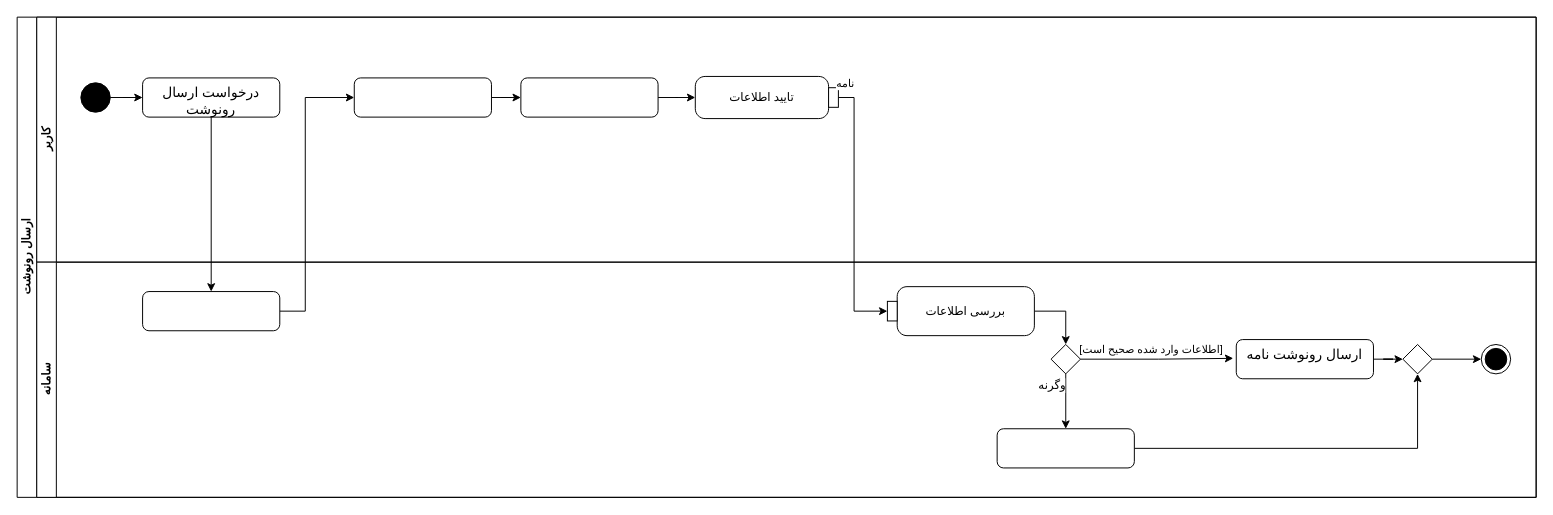
Image size: 1553x515. Some labels were removed from this diagram. The centre of each missing label's shape, as x and y in pixels:
"اعلام نامعتبر بودن گیرندگان" belongs at point (1065, 448).
"انتخاب نامه" belongs at point (422, 97).
"نمایش نامه های کاربر" belongs at point (211, 311).
"وارد کردن لیست گیرندگان رونوشت" belongs at point (589, 97).
